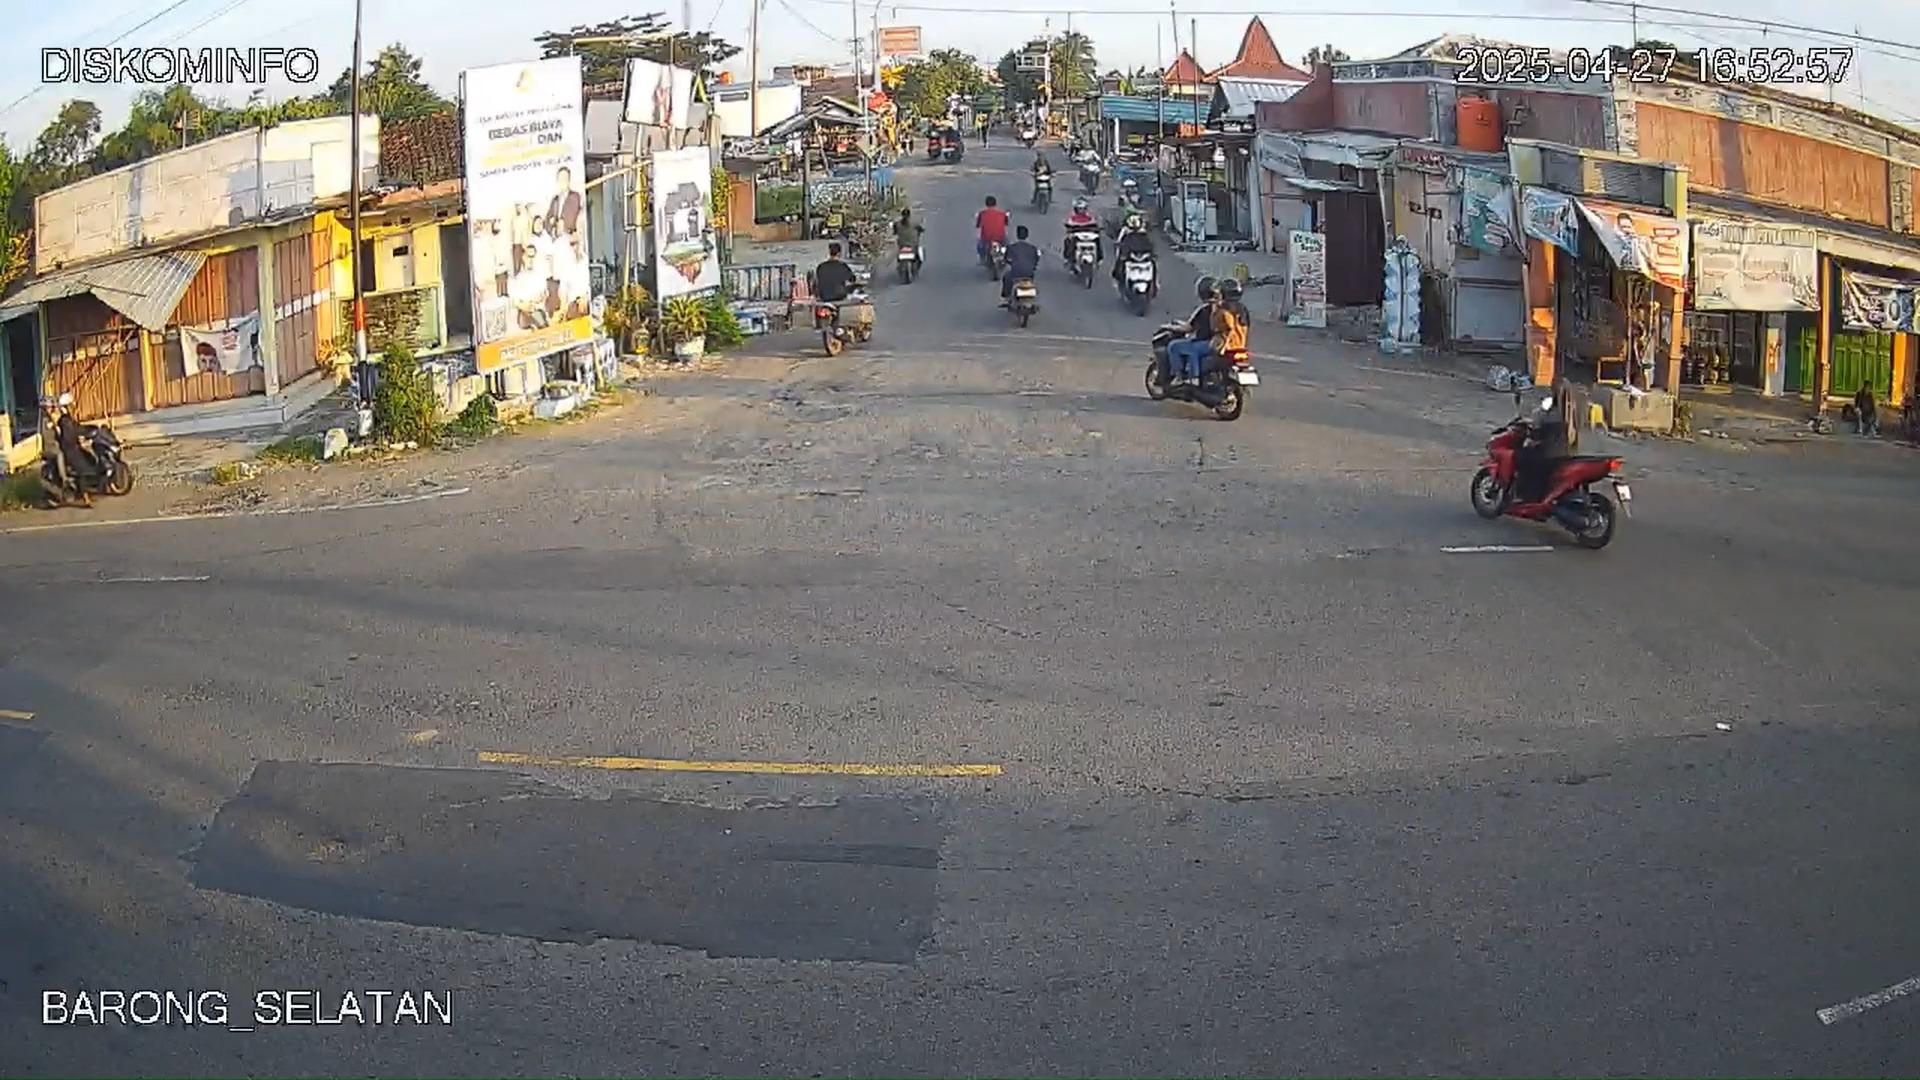Motor: (1458, 376, 1618, 551), (1143, 274, 1247, 414), (40, 411, 137, 504), (1000, 261, 1042, 330)
